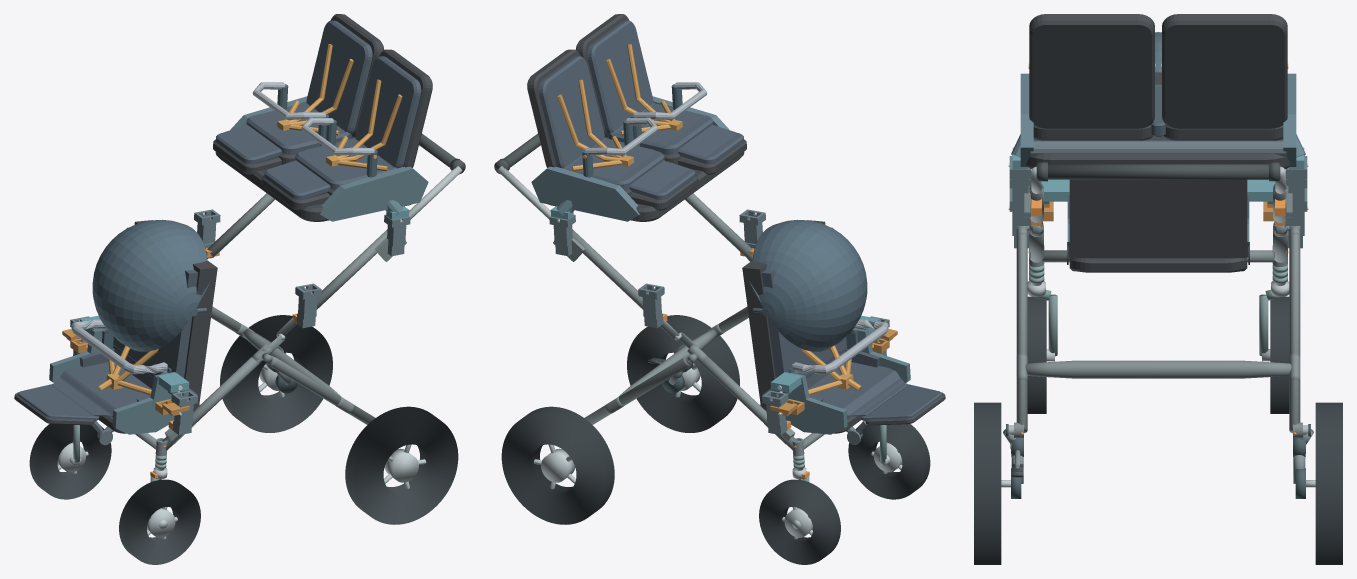
File: D23_w650_state1_wheel_L.glb
3 views of the same model, side by side, from view 1: azimuth 30°, elevation 25°; view 2: azimuth 150°, elevation 25°; view 3: azimuth 270°, elevation 25° (orthographic). The views are drawn at different scales.
Visible parts, largest first — view 1: D23_Upper, D23_Lower, RL_tire.008, RR_tire.008, FL_tire.008, FR_tire.008, D23_Lower_Mount_L, V46_rear_leg_-1.009, main_lower_-1.009, main_upper_-1.009, main_upper_1.009, Universal_Cabin_Receiver_M_-1 (+7 smaller); view 2: D23_Upper, D23_Lower, RR_tire.008, RL_tire.008, FR_tire.008, FL_tire.008, D23_Lower_Mount_L, V46_rear_leg_1.009, main_lower_1.009, main_upper_1.009, main_upper_-1.009, Universal_Cabin_Receiver_M_1 (+7 smaller); view 3: D23_Upper, D23_Lower, V46_rearbar.009, RL_tire.008, RR_tire.008, round_handle.008, FL_tire.008, FR_tire.008, V46_rear_leg_1.009, V46_rear_leg_-1.009, D23_Lower_Mount_L, Universal_Cabin_Receiver_H_1 (+5 smaller).
Boxes of the visible parts, x1=… form: D23_Upper: x1=213, y1=14, x2=432, y2=221; D23_Lower: x1=14, y1=219, x2=217, y2=445; RL_tire.008: x1=345, y1=406, x2=458, y2=524; RR_tire.008: x1=220, y1=315, x2=332, y2=432; FL_tire.008: x1=119, y1=479, x2=200, y2=564; FR_tire.008: x1=29, y1=424, x2=111, y2=499; D23_Lower_Mount_L: x1=49, y1=316, x2=197, y2=434; V46_rear_leg_-1.009: x1=269, y1=357, x2=375, y2=424; main_lower_-1.009: x1=162, y1=357, x2=261, y2=450; main_upper_-1.009: x1=296, y1=229, x2=387, y2=314; main_upper_1.009: x1=207, y1=193, x2=274, y2=257; Universal_Cabin_Receiver_M_-1: x1=295, y1=283, x2=321, y2=327; D23_Upper: x1=527, y1=14, x2=746, y2=221; D23_Lower: x1=742, y1=219, x2=945, y2=445; RR_tire.008: x1=501, y1=406, x2=614, y2=524; RL_tire.008: x1=627, y1=315, x2=739, y2=432; FR_tire.008: x1=759, y1=479, x2=840, y2=564; FL_tire.008: x1=848, y1=424, x2=930, y2=499; D23_Lower_Mount_L: x1=762, y1=316, x2=910, y2=434; V46_rear_leg_1.009: x1=584, y1=357, x2=690, y2=424; main_lower_1.009: x1=698, y1=357, x2=797, y2=450; main_upper_1.009: x1=572, y1=229, x2=663, y2=314; main_upper_-1.009: x1=685, y1=193, x2=752, y2=257; Universal_Cabin_Receiver_M_1: x1=638, y1=283, x2=664, y2=327; D23_Upper: x1=1020, y1=14, x2=1296, y2=169; D23_Lower: x1=1067, y1=32, x2=1249, y2=272; V46_rearbar.009: x1=1025, y1=360, x2=1291, y2=378; RL_tire.008: x1=974, y1=402, x2=1001, y2=564; RR_tire.008: x1=1315, y1=402, x2=1342, y2=564; round_handle.008: x1=1036, y1=164, x2=1280, y2=179; FL_tire.008: x1=1027, y1=296, x2=1046, y2=413; FR_tire.008: x1=1270, y1=296, x2=1289, y2=413; V46_rear_leg_1.009: x1=1289, y1=232, x2=1300, y2=433; V46_rear_leg_-1.009: x1=1016, y1=232, x2=1027, y2=433; D23_Lower_Mount_L: x1=1041, y1=179, x2=1275, y2=257; Universal_Cabin_Receiver_H_1: x1=1285, y1=156, x2=1307, y2=216.
Bounding box in the file's own units: 1.37 × 1.4 × 0.8171.
